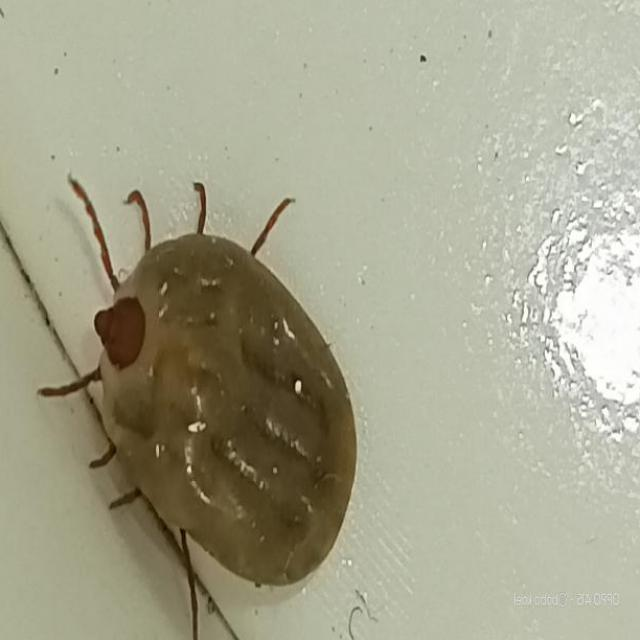Rhipicephalus Sanguineus-F-Fed: (36, 173, 356, 640)
